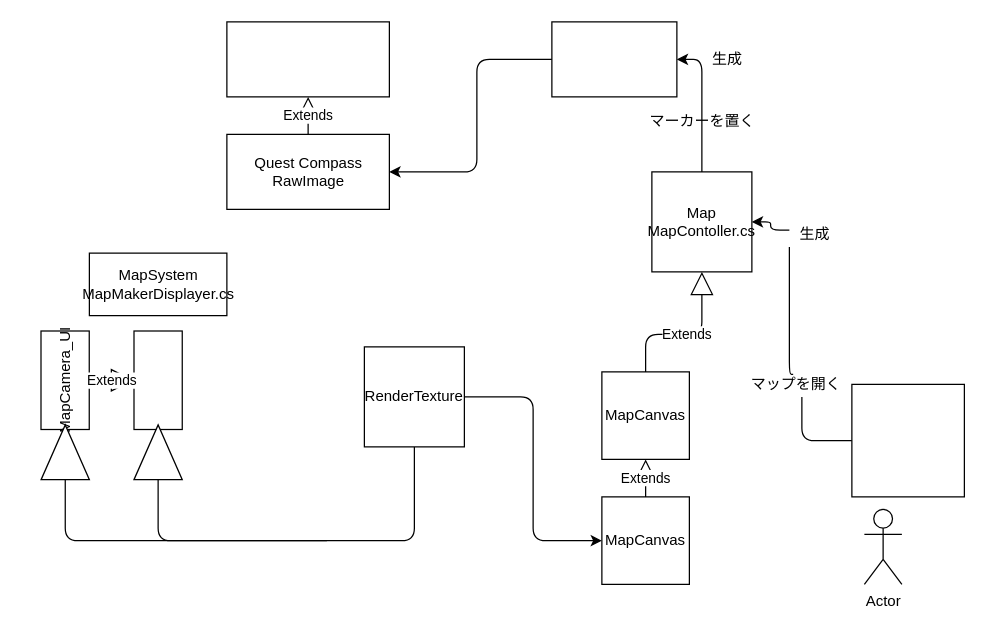
The diagram is 986 pixels wide and 633 high, and some of its shapes have lost their labels. The shapes that lost their labels are listed below. From the top down, each one's centre as x and y in pixels, then its label:
At [307,59]: "QuestMachineCnavas".
At [614,59]: "マーカー用 オブジェクト".
At [157,380]: "MapCamera".
At [907,440]: "MapSystem.cs".
